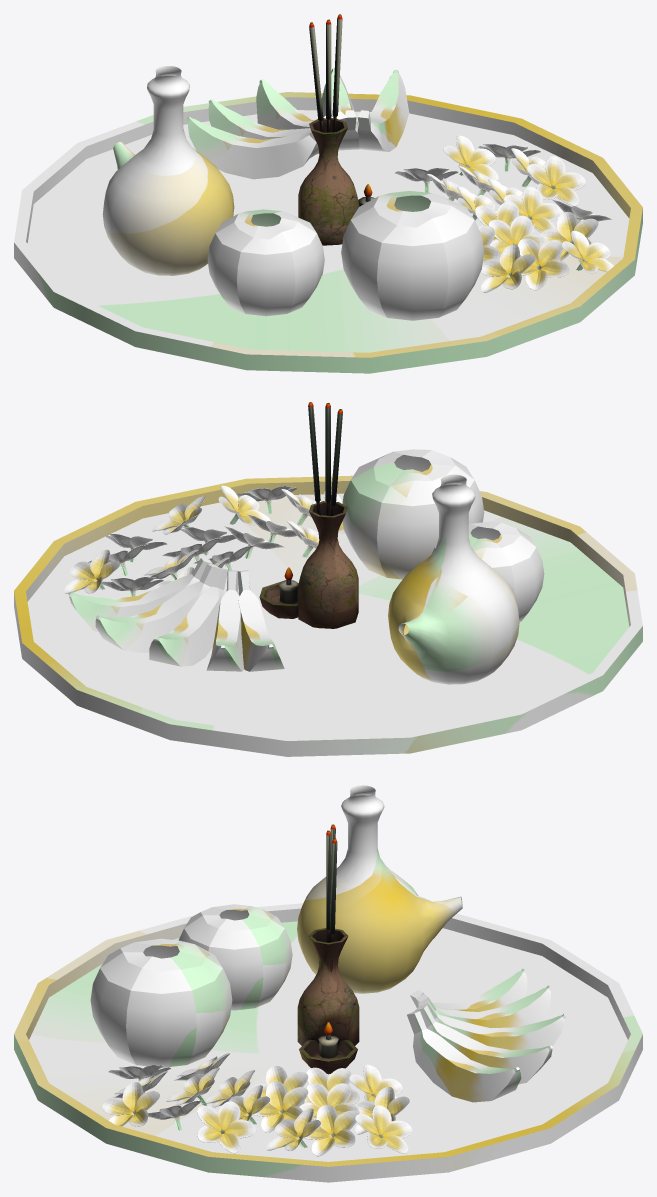
The model's file is SESAJEN.fbx.
3 views of the same model, one above another, from view 1: azimuth 30°, elevation 25°; view 2: azimuth 150°, elevation 25°; view 3: azimuth 270°, elevation 25° (orthographic).
Visible parts, largest first — view 1: Circle.003; view 2: Circle.003; view 3: Circle.003.
Part boxes in pixels (box(x1,y1,x2,y2)): Circle.003: box(14, 14, 642, 373); Circle.003: box(14, 402, 642, 756); Circle.003: box(14, 785, 642, 1182).
Size of the model in its own units: 69.35 by 27 by 69.35.
6 materials, 6 textured.
